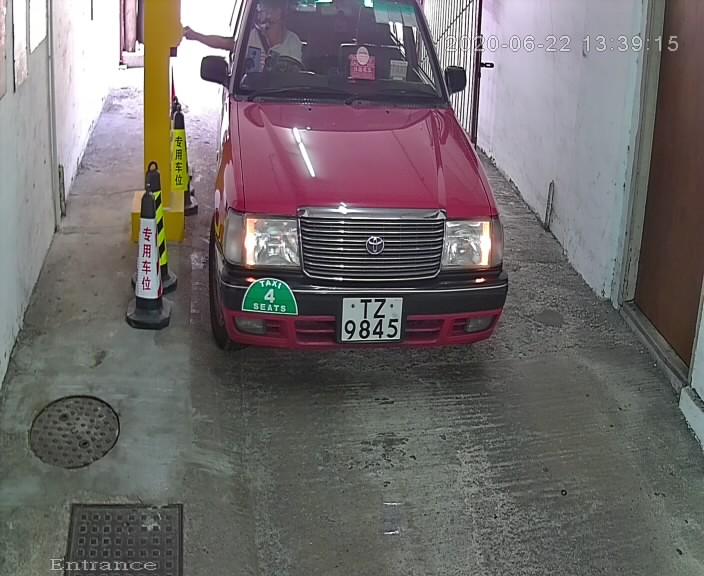taxi: (173, 1, 527, 397)
taxi_mark: (229, 261, 305, 329)
